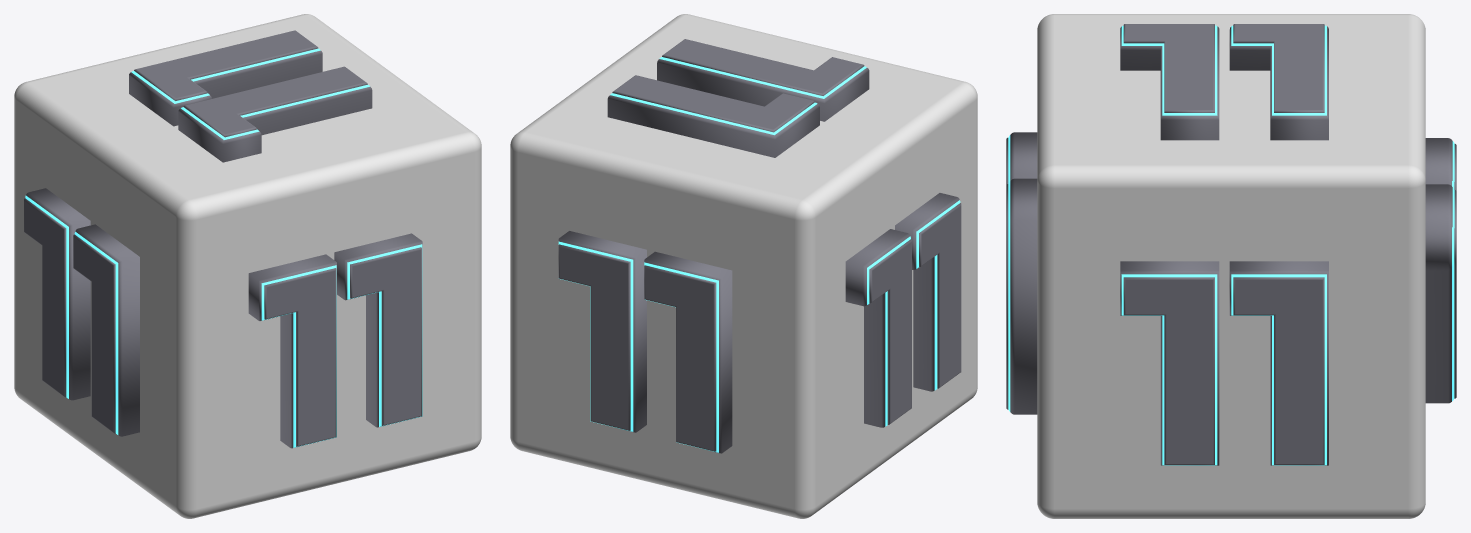
Rendered from Number 11.fbx.
3 renders of one model, left to right at view 1: azimuth 30°, elevation 25°; view 2: azimuth 150°, elevation 25°; view 3: azimuth 270°, elevation 25°, orthographic. The views are drawn at different scales.
Parts seen in each view (by area): view 1: Cube, N_1_smaller.001, N_1_smaller, N_1_smaller.004, N_1_side, N_1_side.004, N_1_side.001, N_1_border.001, N_1_border, N_1_border.004; view 2: Cube, N_1_smaller.003, N_1_smaller, N_1_smaller.004, N_1_side.004, N_1_side, N_1_side.003, N_1_border.003, N_1_border, N_1_border.004; view 3: Cube, N_1_smaller.002, N_1_smaller.004, N_1_side.001, N_1_side.003, N_1_side.004, N_1_side.002, N_1_border.002, N_1_border.004, N_1_border.001, N_1_smaller.001, N_1_border.003 (+1 smaller).
Boxes of the visible parts, x1,y1,x2,y2 form: Cube: (14,14,481,518); N_1_smaller.001: (264,247,421,446); N_1_smaller: (24,198,115,433); N_1_smaller.004: (134,30,367,137); N_1_side: (26,188,139,436); N_1_side.004: (129,50,372,162); N_1_side.001: (248,233,422,448); N_1_border.001: (261,244,422,447); N_1_border: (25,195,118,434); N_1_border.004: (131,48,369,139); Cube: (510,14,977,518); N_1_smaller.003: (558,244,716,451); N_1_smaller: (869,203,961,424); N_1_smaller.004: (612,39,864,132); N_1_side.004: (607,59,869,157); N_1_side: (845,193,959,427); N_1_side.003: (558,231,732,453); N_1_border.003: (558,241,718,452); N_1_border: (867,200,960,426); N_1_border.004: (610,57,866,135); Cube: (1037,14,1425,518); N_1_smaller.002: (1123,277,1324,464); N_1_smaller.004: (1123,24,1324,112); N_1_side.001: (1010,132,1037,414); N_1_side.003: (1425,138,1452,403); N_1_side.004: (1120,26,1328,140); N_1_side.002: (1120,261,1328,465); N_1_border.002: (1121,274,1326,465); N_1_border.004: (1121,25,1326,115); N_1_border.001: (1008,135,1010,411); N_1_smaller.001: (1006,137,1008,409); N_1_border.003: (1452,141,1454,401).
Bounding box in the file's own units: 232 × 232 × 232.
